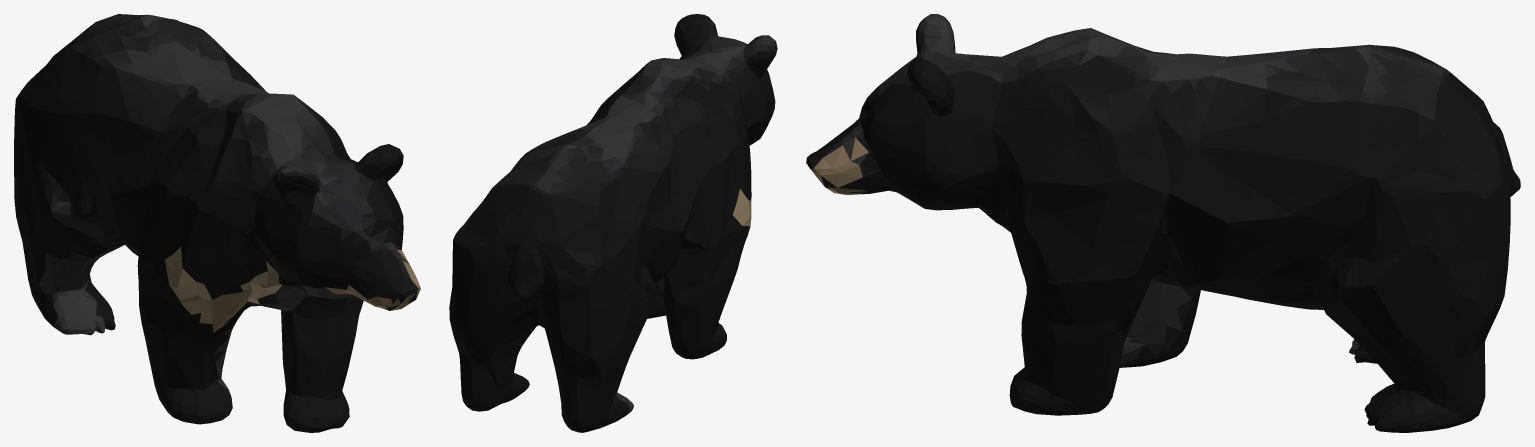
File: tsuki.glb
The picture shows the model from 3 angles, left to right: view 1: azimuth 30°, elevation 25°; view 2: azimuth 150°, elevation 25°; view 3: azimuth 270°, elevation 25°; orthographic projection. The views are drawn at different scales.
Parts seen in each view (by area): view 1: body, legFL, legHL, legFR; view 2: body, legHL, legHR, legFL, legFR; view 3: body, legHR, legFR, legFL, legHL.
Boxes of the visible parts, box(x1,y1,x2,y2) form: body: box(14, 14, 420, 327); legFL: box(142, 296, 307, 431); legHL: box(14, 192, 160, 398); legFR: box(281, 300, 363, 432); body: box(449, 14, 777, 352); legHL: box(531, 266, 720, 432); legHR: box(450, 305, 543, 411); legFL: box(702, 243, 741, 357); legFR: box(645, 280, 665, 318); body: box(806, 14, 1520, 320); legHR: box(1170, 283, 1503, 432); legFR: box(1009, 276, 1164, 415); legFL: box(1119, 279, 1166, 367); legHL: box(1158, 283, 1377, 363).
Size of the model in its own units: 1.07 by 1.62 by 2.95.
